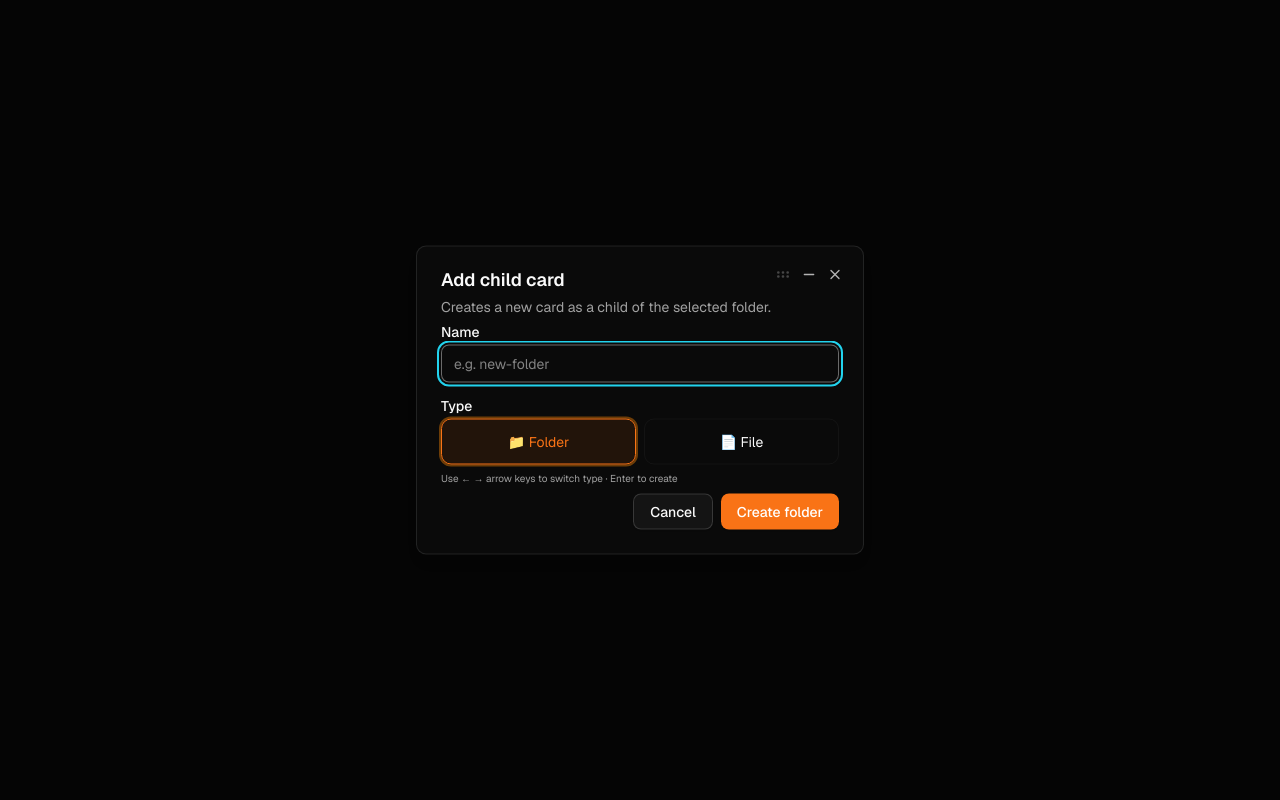
Scenario: AddNodeDialog duplicate detection › submit button is disabled when duplicate
Type "existing" into the field at (640, 364), box [441, 344, 839, 382]
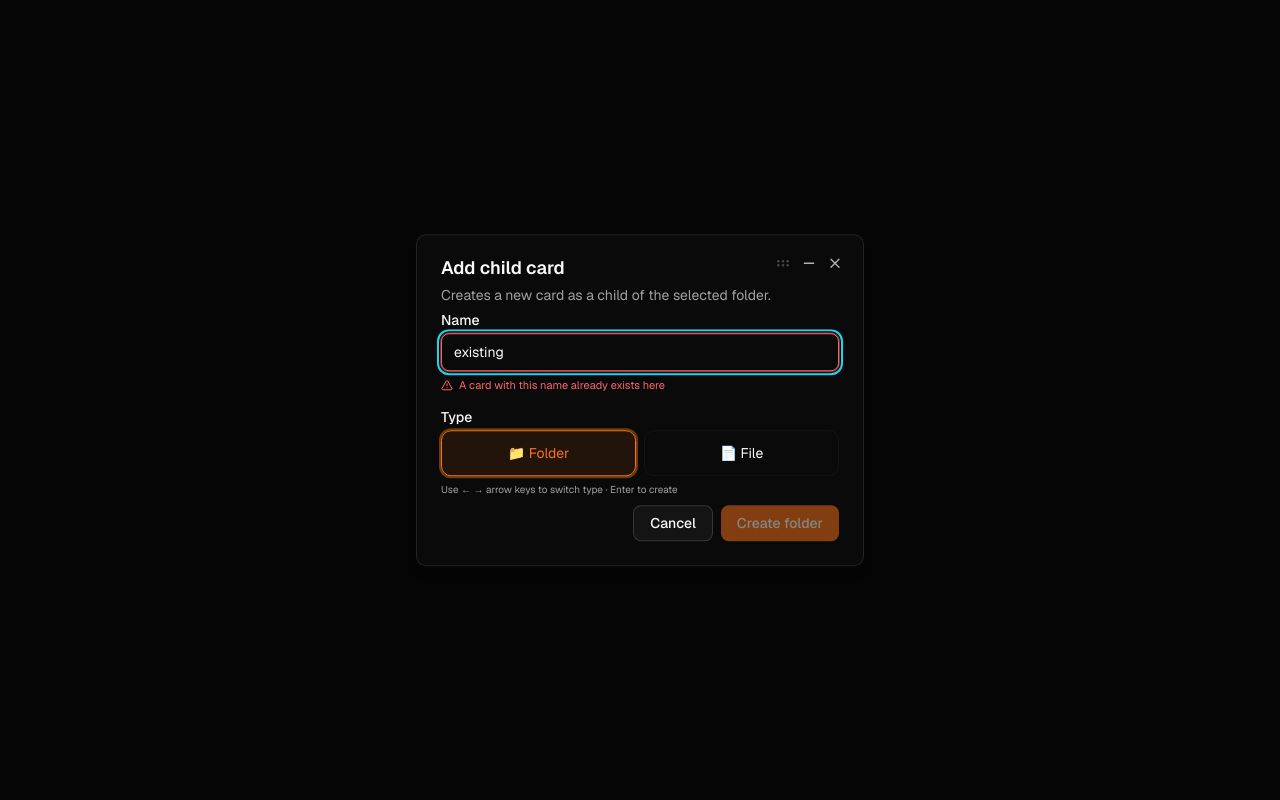
expect the button "Create folder" is disabled: met, box [721, 505, 839, 541]
